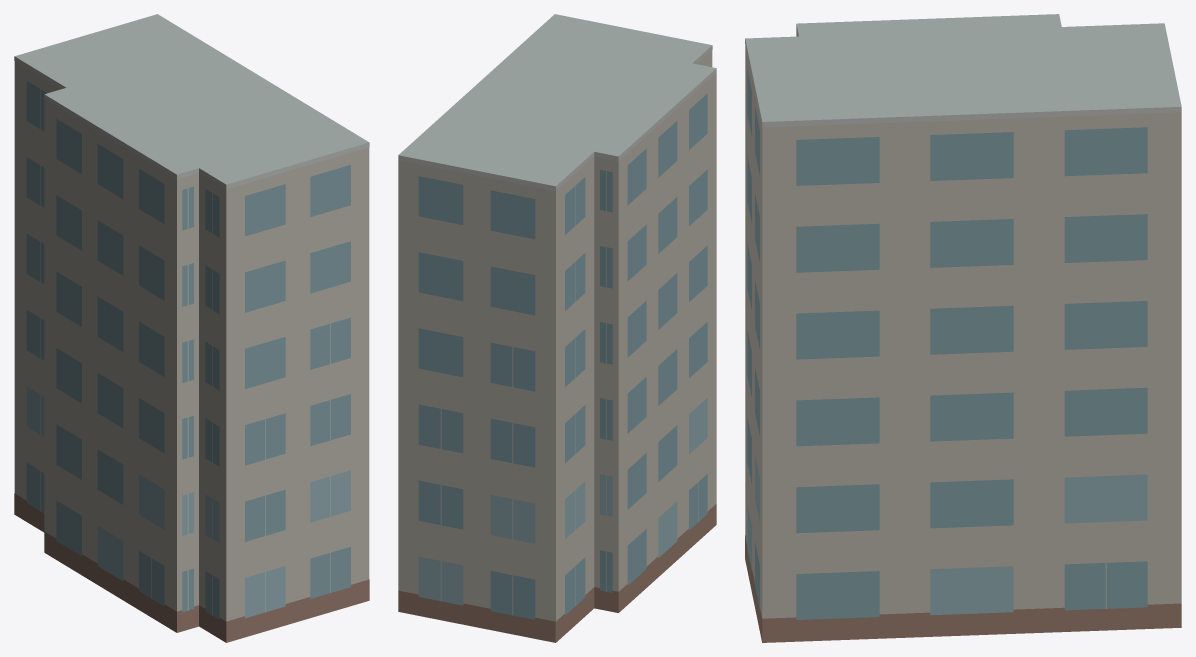
The model's file is survey-upis-32656062.glb.
The picture shows the model from 3 angles, left to right: view 1: azimuth 30°, elevation 25°; view 2: azimuth 150°, elevation 25°; view 3: azimuth 270°, elevation 25°; orthographic projection. The views are drawn at different scales.
Parts seen in each view (by area): view 1: survey-upis-32656062.tmp; view 2: survey-upis-32656062.tmp; view 3: survey-upis-32656062.tmp.
Part boxes in pixels (x1,y1,x2,y2): survey-upis-32656062.tmp: (14,14,369,642); survey-upis-32656062.tmp: (398,14,716,642); survey-upis-32656062.tmp: (745,14,1181,642).
Bounding box in the file's own units: 10.39 × 23.35 × 17.74.
